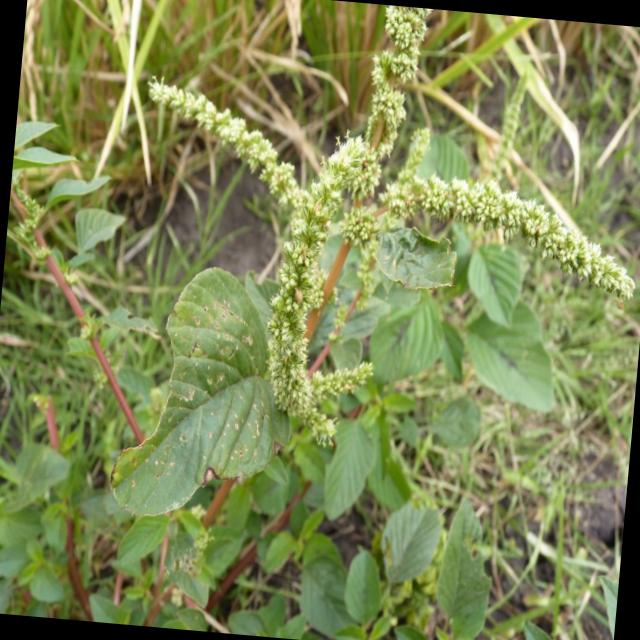Medicinal-Arive Dantu: (124, 122, 640, 566)
